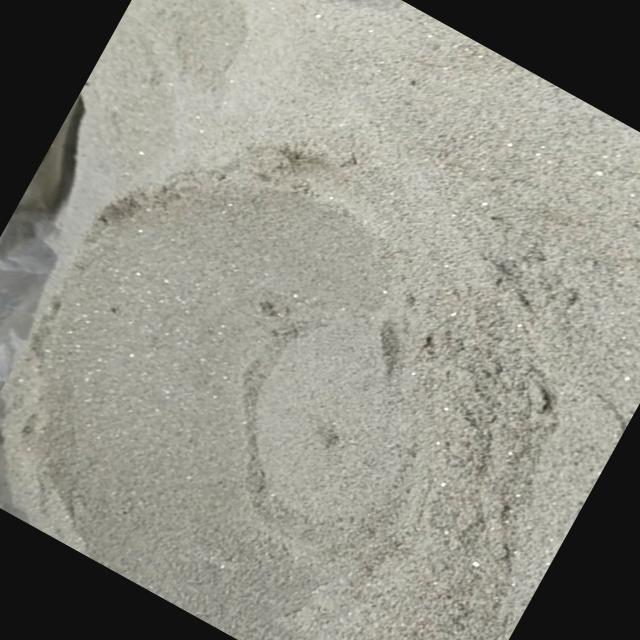C20: (12, 178, 421, 631)
